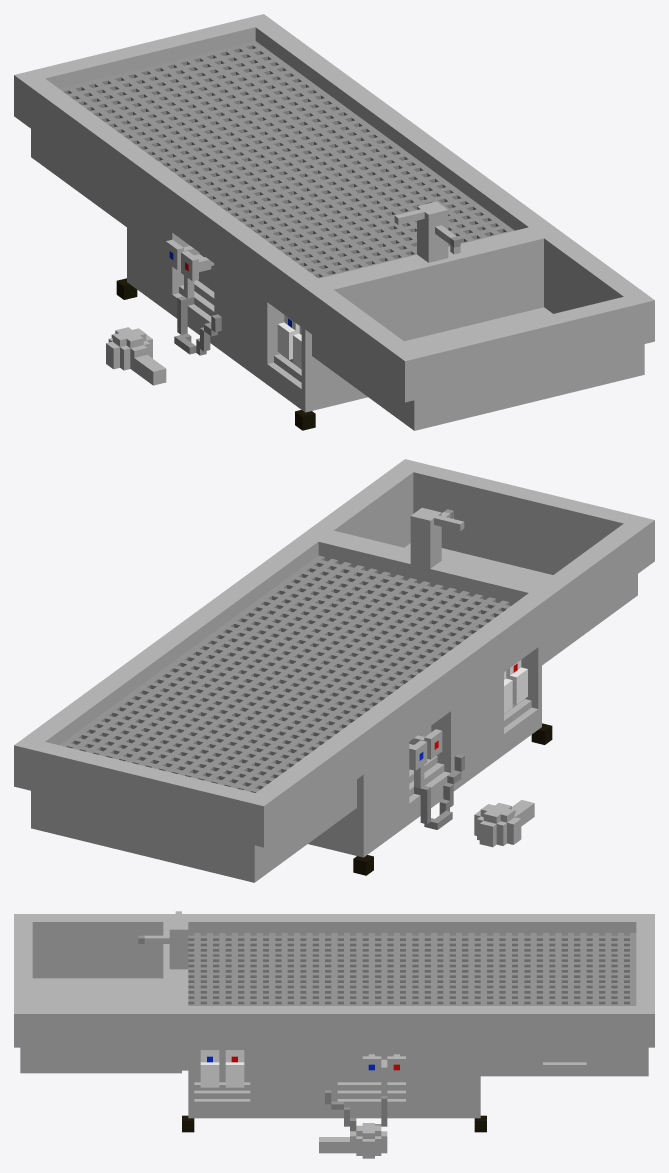
Rendered from Autopsy_room_bed2-1.fbx.
3 renders of one model, top to bottom at view 1: azimuth 30°, elevation 25°; view 2: azimuth 150°, elevation 25°; view 3: azimuth 270°, elevation 25°, orthographic. The views are drawn at different scales.
Parts seen in each view (by area): view 1: Autopsy room bed2-1.002, Autopsy room bed2-1.001; view 2: Autopsy room bed2-1.002, Autopsy room bed2-1.001; view 3: Autopsy room bed2-1.002, Autopsy room bed2-1.
Boxes of the visible parts, bbox=[...] form: Autopsy room bed2-1.002: bbox=[14, 14, 654, 430]; Autopsy room bed2-1.001: bbox=[106, 327, 166, 385]; Autopsy room bed2-1.002: bbox=[14, 459, 654, 882]; Autopsy room bed2-1.001: bbox=[474, 800, 534, 847]; Autopsy room bed2-1.002: bbox=[14, 911, 654, 1132]; Autopsy room bed2-1: bbox=[319, 1123, 387, 1158].
Bounding box in the file's own units: 6 × 2.8 × 10.3.
